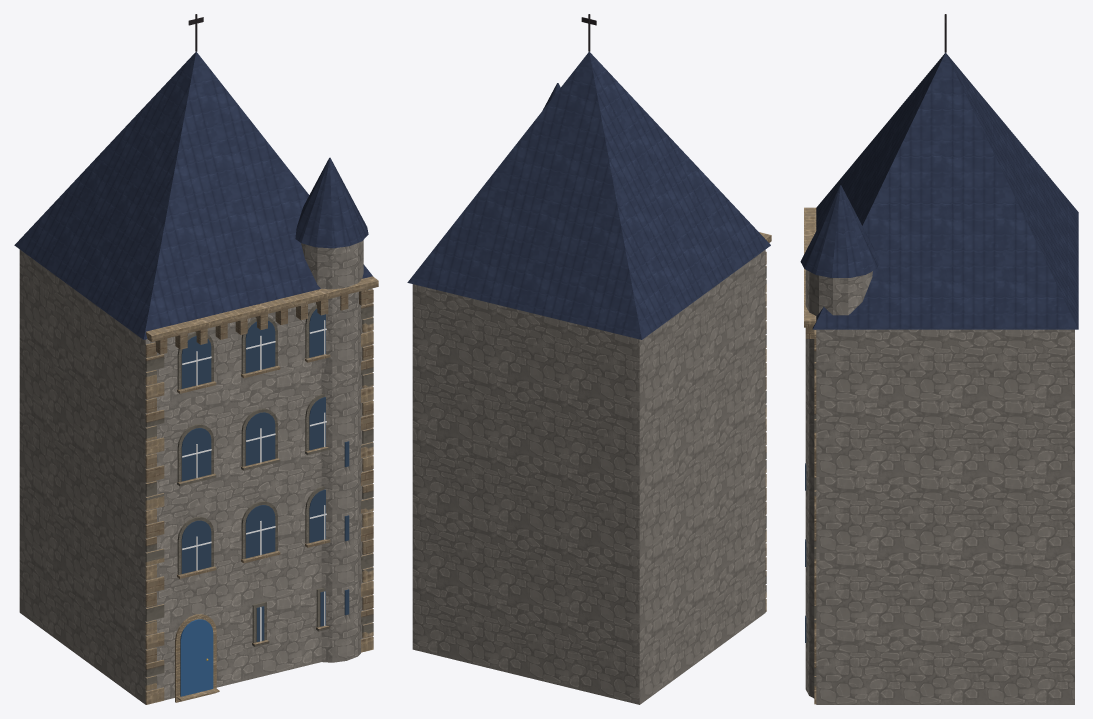
Rendered from torre_w8_0.gltf.
3 views of the same model, side by side, from view 1: azimuth 30°, elevation 25°; view 2: azimuth 150°, elevation 25°; view 3: azimuth 270°, elevation 25° (orthographic). The views are drawn at different scales.
Parts seen in each view (by area): view 1: torre_w8_0; view 2: torre_w8_0; view 3: torre_w8_0.
Part boxes in pixels (<box>): torre_w8_0: <box>14,14,378,704</box>; torre_w8_0: <box>407,14,771,704</box>; torre_w8_0: <box>800,14,1078,704</box>.
Size of what is drawn, in the model's own units: 7.96 by 20.13 by 7.95.
6 materials, 3 textured.
